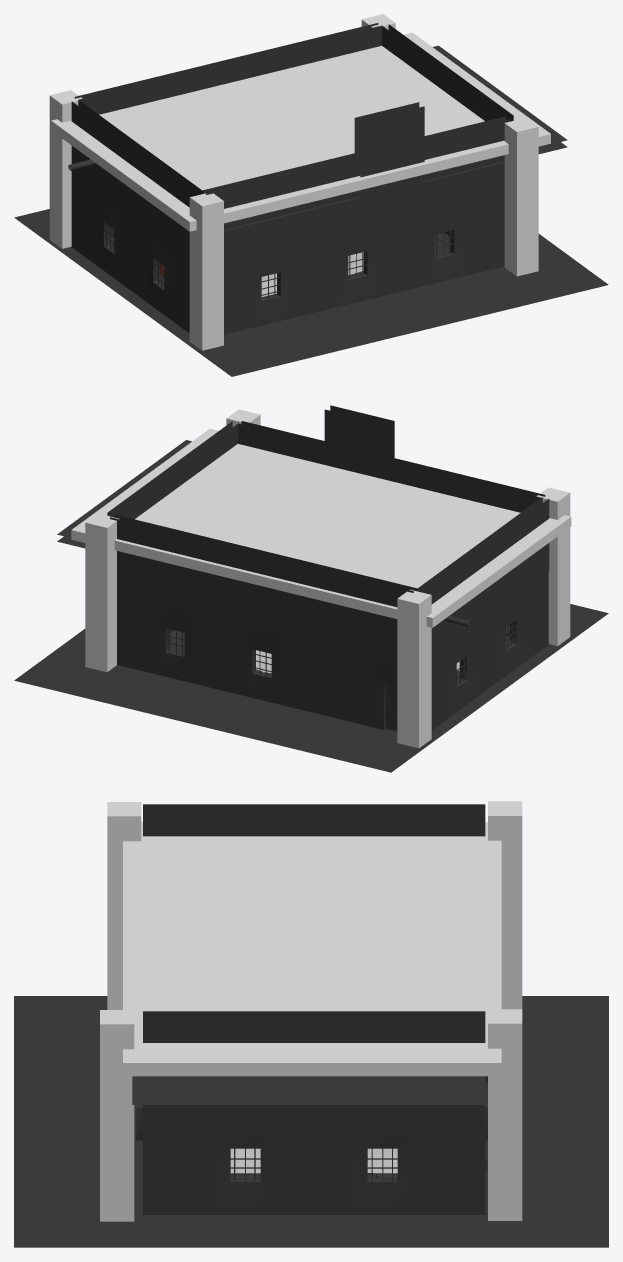
The picture shows the model from 3 angles, top to bottom: view 1: azimuth 30°, elevation 25°; view 2: azimuth 150°, elevation 25°; view 3: azimuth 270°, elevation 25°; orthographic projection. The views are drawn at different scales.
Parts seen in each view (by area): view 1: Cube2, Plane7, WALL_W36, Cube, Cube3, WALL_W13, Cube4, WALL_W11, WALL_W23, WALL_W10, WALL_W12, WALL_W9 (+28 smaller); view 2: Cube2, Plane7, Cube4, Cube5, WALL_W36, WALL_W16, WALL_W7, WALL_W15, Cube3, WALL_W14, WALL_W6, WALL_W31 (+29 smaller); view 3: Cube2, Plane7, Cube5, Cube, WALL_W4, WALL_W2, WALL_W8, WALL_W, WALL_W3, Cube4, Cube3, WALL_W48 (+16 smaller).
Boxes of the visible parts, x1=… form: Cube2: x1=51, y1=32, x2=550, y2=231; Plane7: x1=14, y1=209, x2=608, y2=376; WALL_W36: x1=354, y1=102, x2=424, y2=230; Cube: x1=504, y1=118, x2=538, y2=276; Cube3: x1=189, y1=193, x2=223, y2=350; WALL_W13: x1=292, y1=234, x2=336, y2=317; Cube4: x1=49, y1=90, x2=82, y2=248; WALL_W11: x1=379, y1=215, x2=422, y2=296; WALL_W23: x1=249, y1=245, x2=292, y2=328; WALL_W10: x1=423, y1=203, x2=466, y2=286; WALL_W12: x1=336, y1=225, x2=379, y2=307; WALL_W9: x1=466, y1=193, x2=504, y2=275; Cube2: x1=71, y1=428, x2=571, y2=627; Plane7: x1=14, y1=604, x2=608, y2=772; Cube4: x1=397, y1=589, x2=431, y2=748; Cube5: x1=85, y1=513, x2=119, y2=672; WALL_W36: x1=324, y1=405, x2=394, y2=475; WALL_W16: x1=327, y1=643, x2=370, y2=726; WALL_W7: x1=197, y1=611, x2=240, y2=694; WALL_W15: x1=283, y1=632, x2=326, y2=715; Cube3: x1=536, y1=487, x2=570, y2=645; WALL_W14: x1=240, y1=622, x2=283, y2=705; WALL_W6: x1=153, y1=601, x2=196, y2=684; WALL_W31: x1=327, y1=567, x2=374, y2=653; Cube2: x1=123, y1=822, x2=501, y2=1076; Plane7: x1=14, y1=996, x2=608, y2=1247; Cube5: x1=488, y1=1009, x2=522, y2=1220; Cube: x1=100, y1=1010, x2=134, y2=1221; WALL_W4: x1=416, y1=1115, x2=485, y2=1214; WALL_W2: x1=280, y1=1115, x2=348, y2=1214; WALL_W8: x1=143, y1=1115, x2=211, y2=1214; WALL_W: x1=348, y1=1115, x2=416, y2=1214; WALL_W3: x1=211, y1=1115, x2=279, y2=1214; Cube4: x1=488, y1=801, x2=522, y2=1009; Cube3: x1=107, y1=802, x2=141, y2=1009; WALL_W48: x1=416, y1=1011, x2=485, y2=1115.
Size of what is drawn, in the model's own units: 1803 by 1739 by 802.
